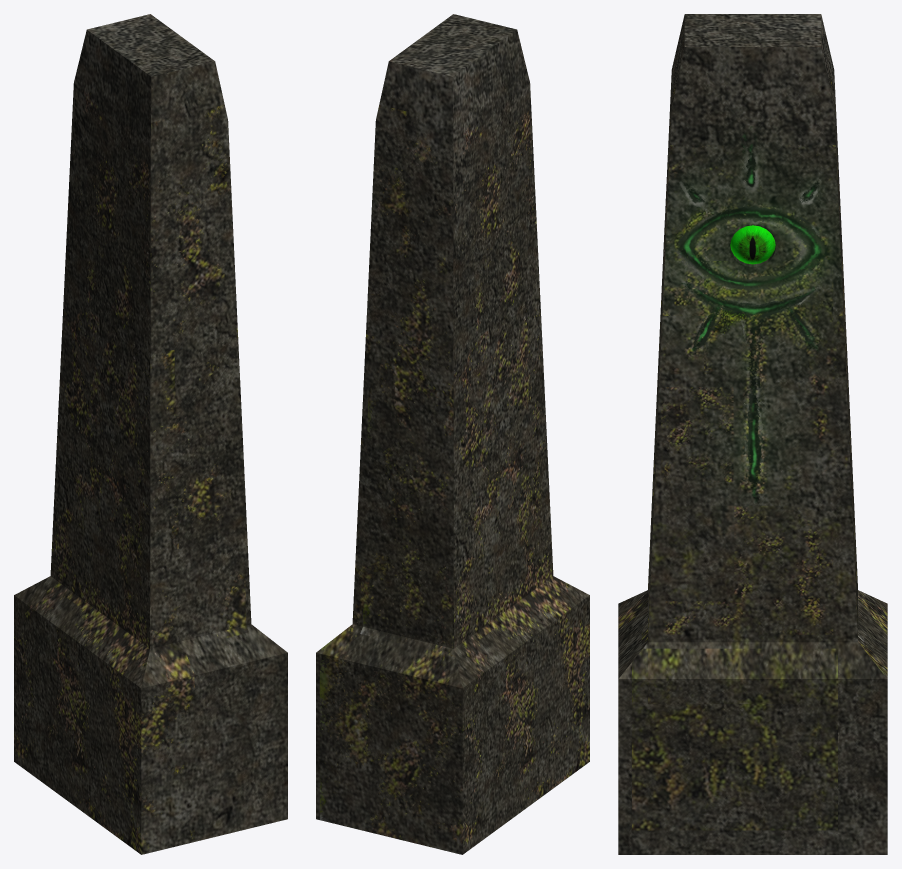
The model's file is A_hokora_G.fbx.
3 views of the same model, side by side, from view 1: azimuth 30°, elevation 25°; view 2: azimuth 150°, elevation 25°; view 3: azimuth 270°, elevation 25° (orthographic). The views are drawn at different scales.
Parts seen in each view (by area): view 1: hokora_G; view 2: hokora_G; view 3: hokora_G, kagi_G.
Part boxes in pixels (bbox=[...]): hokora_G: bbox=[14, 14, 287, 854]; hokora_G: bbox=[316, 14, 589, 854]; hokora_G: bbox=[618, 14, 887, 854]; kagi_G: bbox=[730, 225, 775, 264].
Size of the model in its own units: 15.7 by 76.26 by 23.64.
